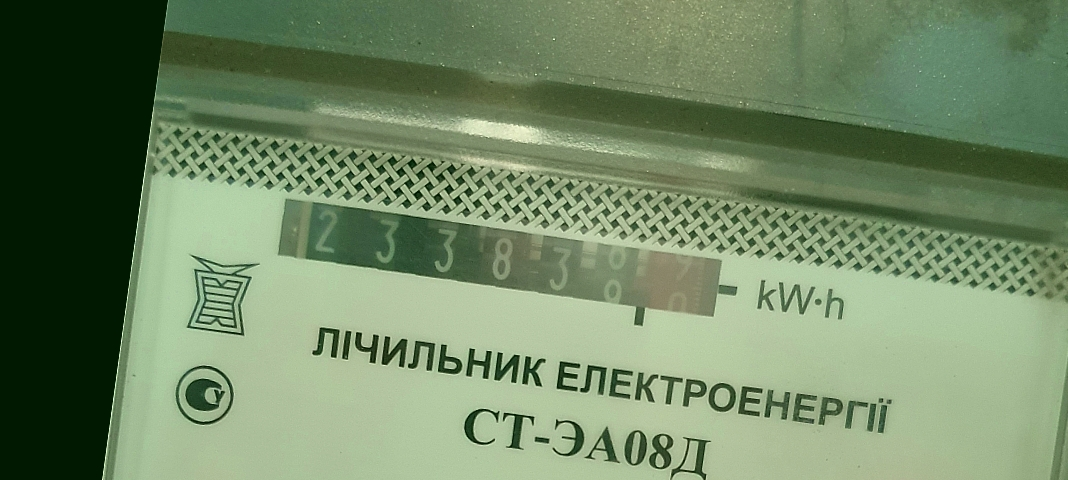0: (663, 286, 692, 314)
2: (309, 204, 343, 256)
3: (369, 214, 403, 267), (430, 224, 460, 277), (544, 242, 575, 293)
8: (487, 233, 517, 282), (602, 243, 633, 273)
9: (597, 273, 627, 306), (668, 251, 696, 283)
screen: (262, 185, 741, 340)
